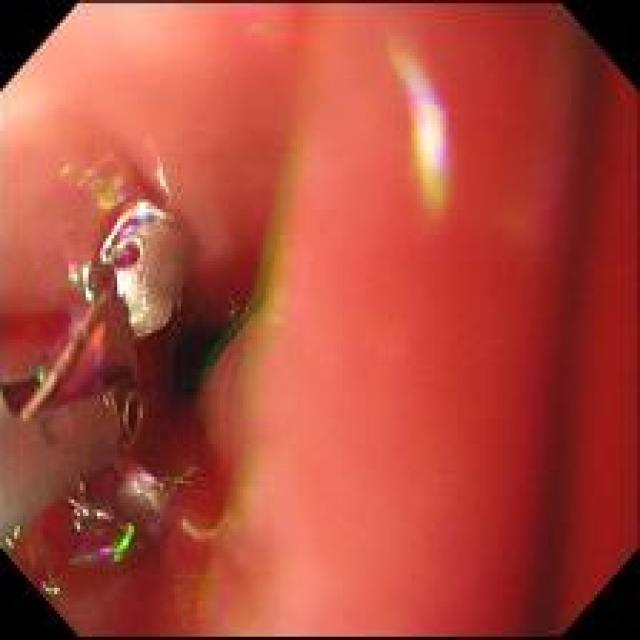color misalignment: (202, 186, 289, 379), (67, 168, 142, 213), (114, 199, 166, 261), (121, 468, 170, 522), (82, 519, 138, 564), (403, 81, 438, 130), (418, 167, 450, 211), (430, 105, 448, 139), (66, 261, 82, 289), (182, 521, 206, 539), (38, 578, 62, 595), (102, 242, 117, 268), (435, 143, 446, 176), (14, 524, 24, 539), (6, 539, 14, 550)
instrument: (82, 201, 191, 483), (2, 376, 172, 539), (2, 310, 98, 540), (18, 464, 198, 539)
specularity: (118, 271, 155, 325), (420, 110, 438, 165)
